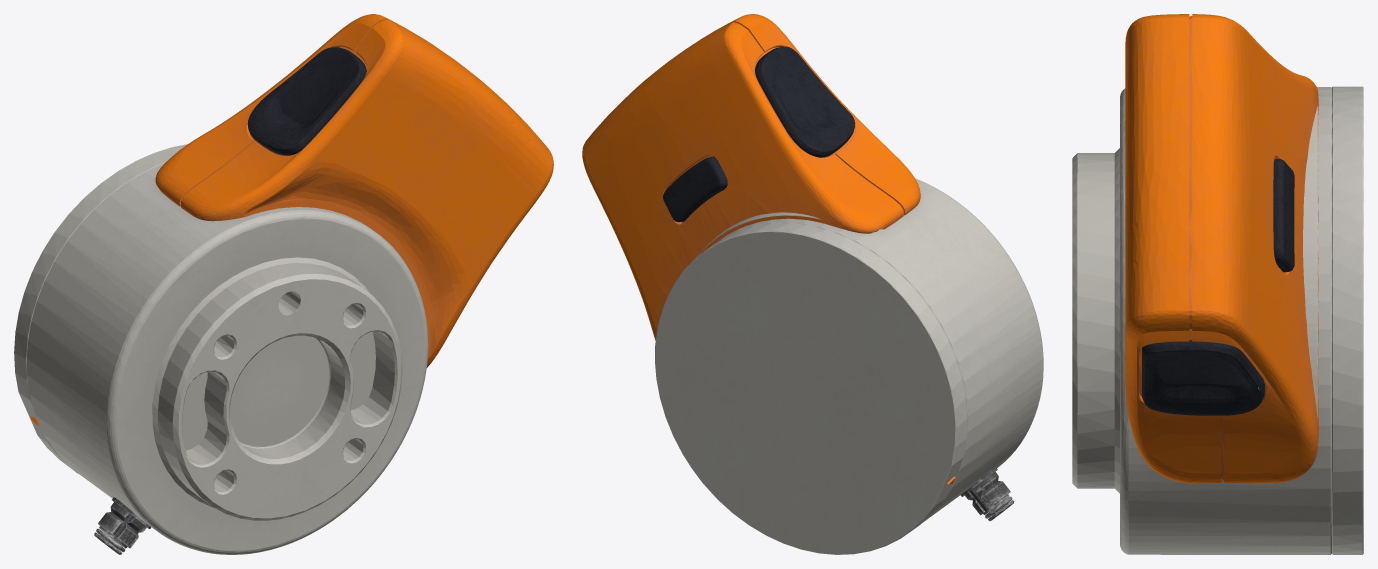
3 views of the same model, side by side, from view 1: azimuth 30°, elevation 25°; view 2: azimuth 150°, elevation 25°; view 3: azimuth 270°, elevation 25° (orthographic). The views are drawn at different scales.
Size of the model in its own units: 0.1253 by 0.1253 by 0.0548.
1 material, 1 textured.
